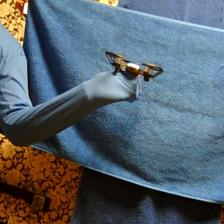drone: (104, 50, 165, 86)
